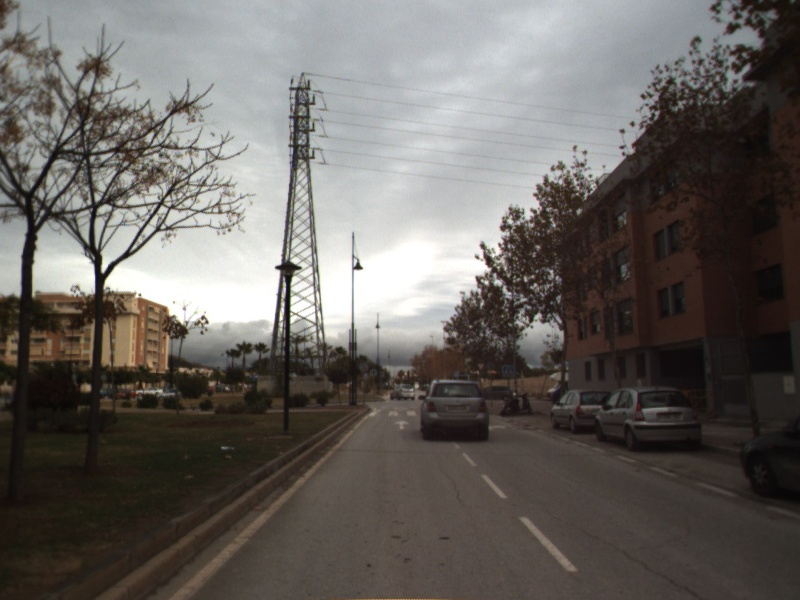STRAIGHT: (393, 418, 411, 431)
